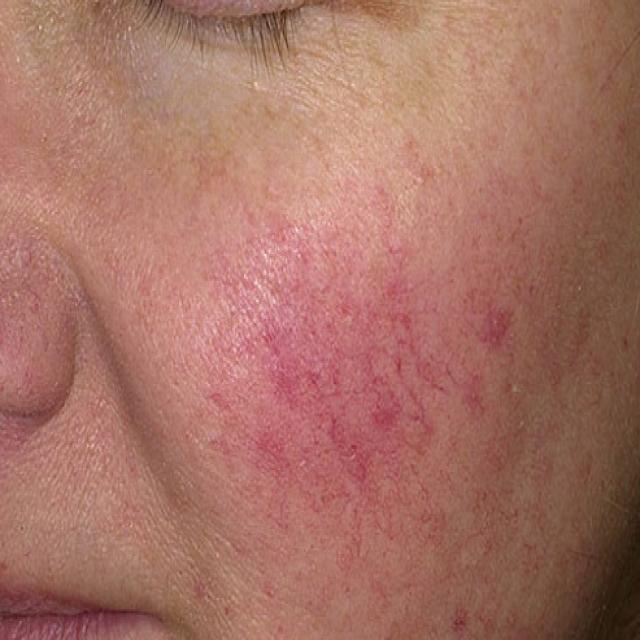Rosacea: (171, 176, 533, 546)
